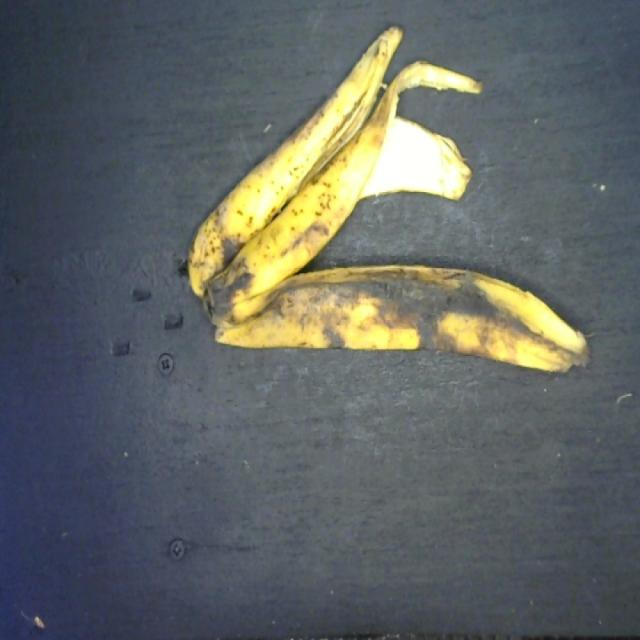biodegradable: (180, 17, 596, 382)
